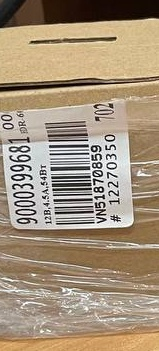1d: (43, 120, 95, 227)
